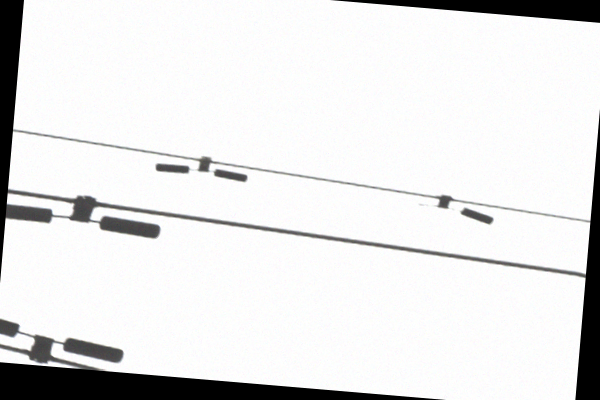damper: (8, 192, 163, 242), (153, 152, 248, 183)
damper_defect: (414, 189, 494, 225)
